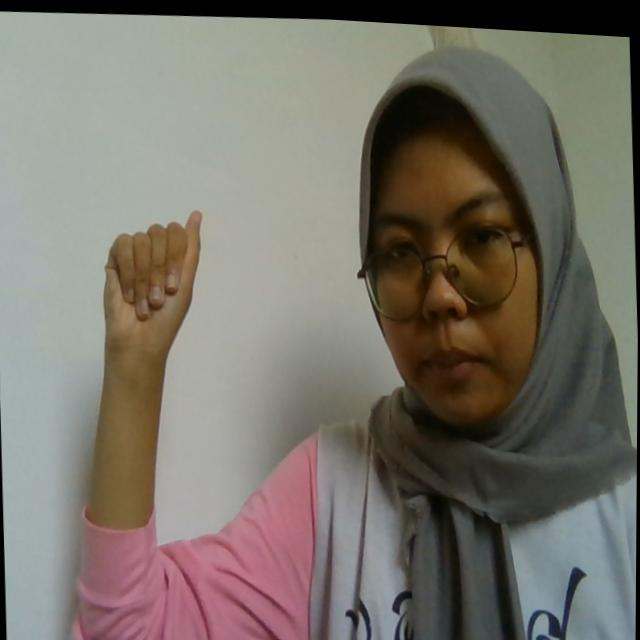A: (100, 201, 209, 343)
